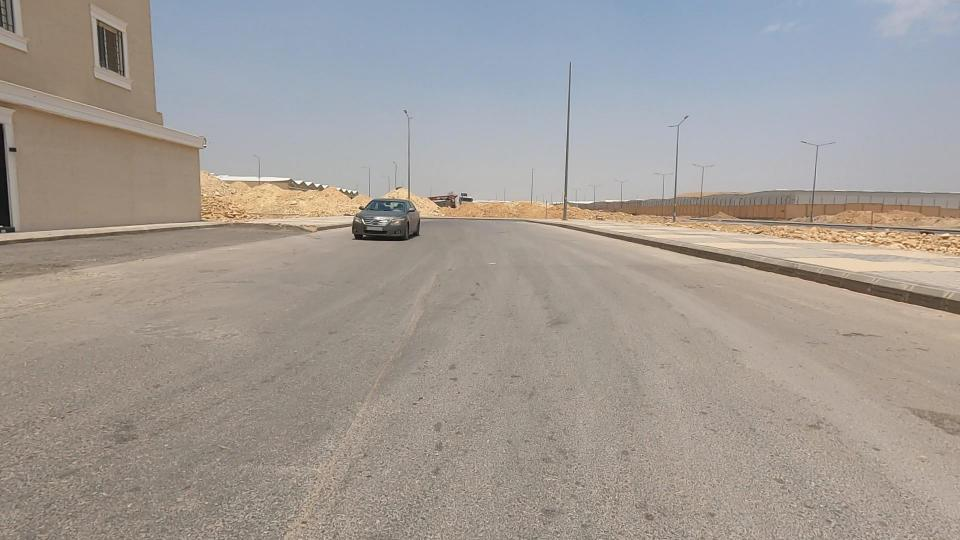SAND_ON_ROAD: (234, 160, 376, 232), (188, 162, 313, 236), (362, 163, 466, 231)
